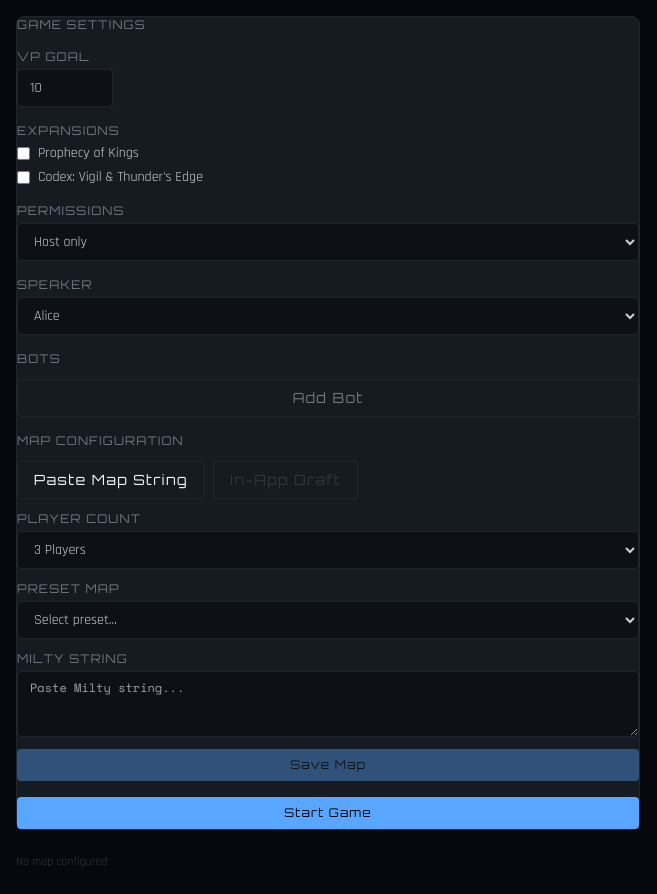
Test: LobbyScreen — map builder (host only) › Save Map button disabled when parse error present
This screenshot has width=657, height=894.
(page scrolled)
Type "18 abc 30" into the text box with placeholder "Paste Milty string...".
click(328, 704); type("18 abc 30")  # box [17,671,639,737]
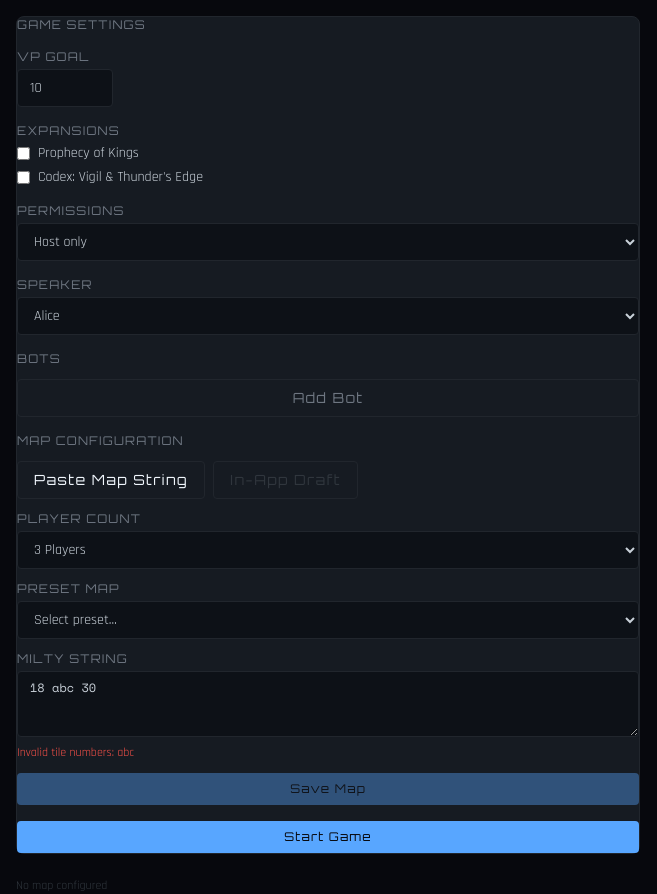
Expected: the button "Save Map" is disabled, [17,773,639,805]
Result: the text "Invalid tile numbers: abc" is shown at [17,745,134,760]
